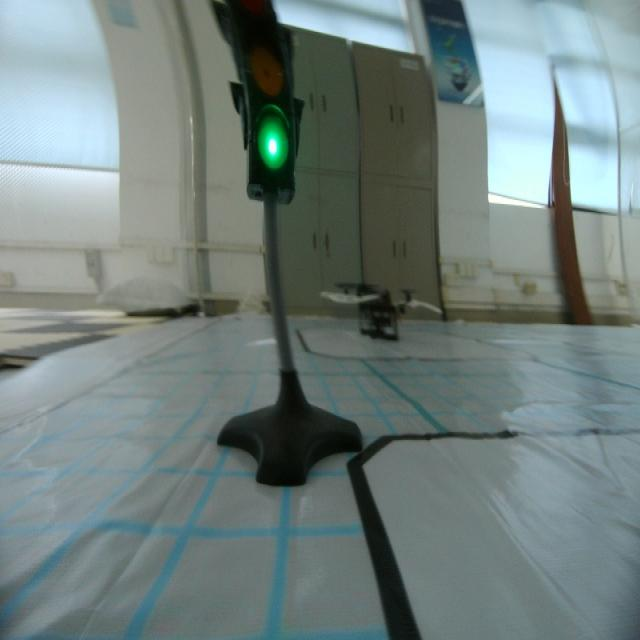green: (232, 30, 302, 195)
